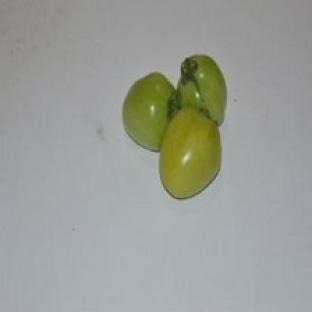Tomato: (159, 108, 221, 199), (123, 73, 175, 150), (177, 55, 227, 125)
